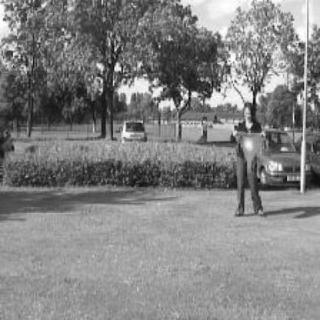other: (227, 125, 271, 171)
